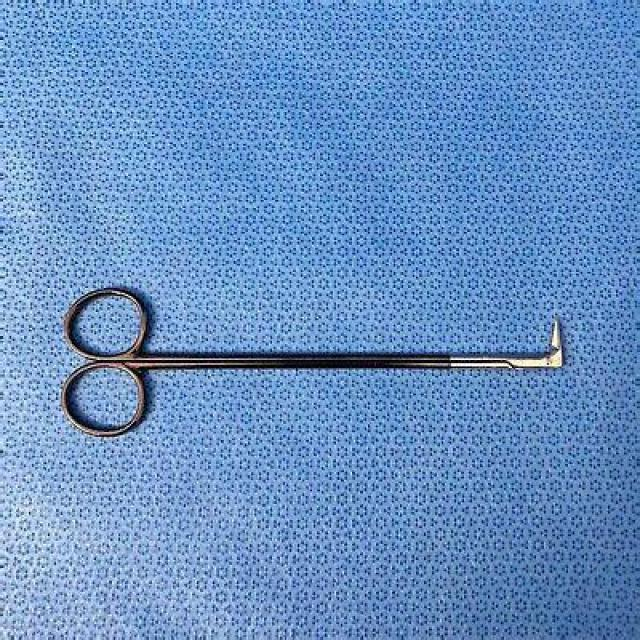Potts: (58, 274, 572, 442)
